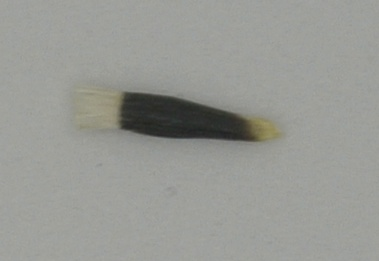เมล็ดดีติดกัน: (70, 83, 285, 146)
